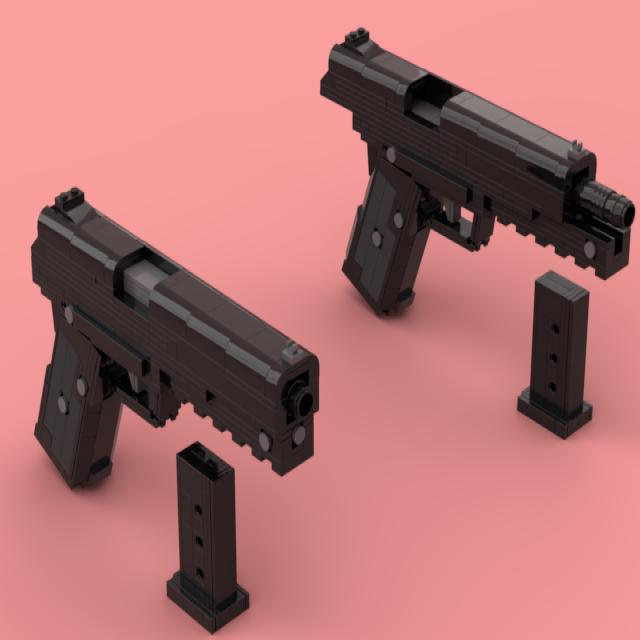HandGun: (319, 29, 636, 317), (29, 188, 322, 491)
